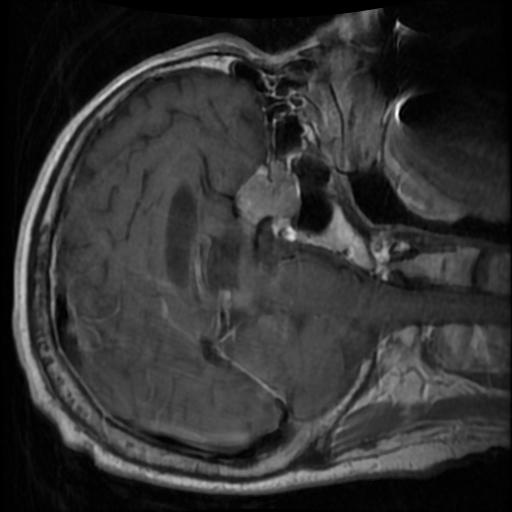pituitary tumour: (239, 164, 298, 230)
